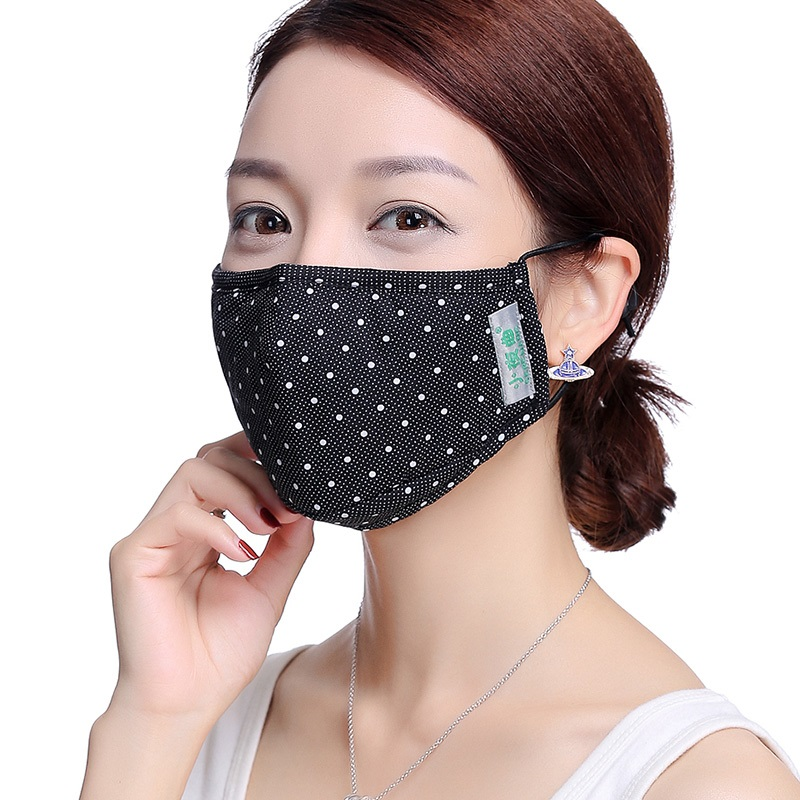face_mask: (216, 58, 543, 529)
